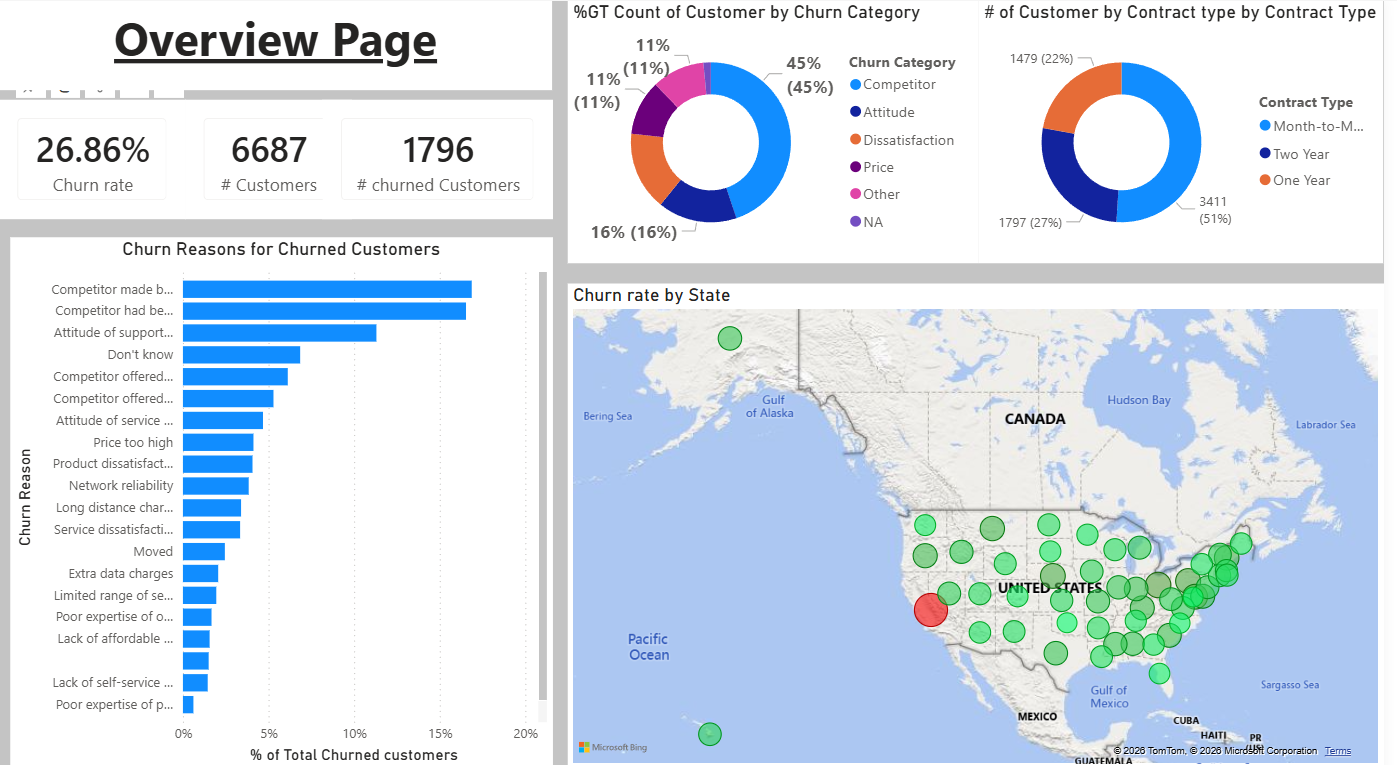

This screenshot's page, from the dashboard's own definition file:
{"tool":"powerbi","page":{"name":"Overview","canvas":[1280,720],"ordinal":0},"visuals":[{"type":"donutChart","fields":{"Category":["data_churn.Churn Category"],"Y":["Divide(CountNonNull(data_churn.Customer ID), ScopedEval(CountNonNull(data_churn.Customer ID), []))"]},"box":[526.2,0,380,242.5],"z":0,"group":"g1"},{"type":"cardVisual","fields":{"Data":["Table.# Customers"]},"box":[172.5,91.2,153.8,110],"z":0},{"type":"donutChart","fields":{"Category":["data_churn.Contract Type"],"Y":["CountNonNull(data_churn.Customer ID)"]},"box":[906.2,0,373.8,242.5],"z":1000,"group":"g1"},{"type":"cardVisual","fields":{"Data":["Table.Churn rate"]},"box":[0,91.2,172.5,110],"z":1000},{"type":"cardVisual","fields":{"Data":["Table.# churned Customers"]},"box":[298.8,91.2,212.5,110],"z":2000},{"type":"map","fields":{"Category":["data_churn.State"],"Size":["Table.Churn rate"]},"box":[525.7,261.4,754.3,448.6],"z":3000},{"type":"clusteredBarChart","title":"Churn Reasons for Churned Customers","fields":{"Category":["data_churn.Churn Reason"],"Y":["CountNonNull(data_churn.Customer ID)"]},"box":[10,218.8,501.2,491.2],"z":4000},{"type":"textbox","box":[0,0,511.2,82.5],"z":5000},{"type":"group","id":"g1","title":"Group 1","box":[526.2,0,753.8,242.5],"z":6000},{"type":"actionButton","box":[0,0,200,50],"z":6001}]}

Visuals, with their boxes in screenshot pixels (x1, y1, x2, y2), scaled from the page's 1280x720 canvas onto the 1397x765 screenshot:
donutChart - data_churn.Churn Category x Divide(CountNonNull(data_churn.Customer ID), ScopedEval(CountNonNull(data_churn.Customer ID), [])): [left=574, top=0, right=989, bottom=258]
cardVisual - Table.# Customers: [left=188, top=97, right=356, bottom=214]
donutChart - data_churn.Contract Type x CountNonNull(data_churn.Customer ID): [left=989, top=0, right=1396, bottom=258]
cardVisual - Table.Churn rate: [left=0, top=97, right=188, bottom=214]
cardVisual - Table.# churned Customers: [left=326, top=97, right=558, bottom=214]
map - data_churn.State x Table.Churn rate: [left=574, top=278, right=1396, bottom=754]
"Churn Reasons for Churned Customers" clusteredBarChart: [left=11, top=232, right=558, bottom=754]
textbox: [left=0, top=0, right=558, bottom=88]
"Group 1" group: [left=574, top=0, right=1396, bottom=258]
actionButton: [left=0, top=0, right=218, bottom=53]
